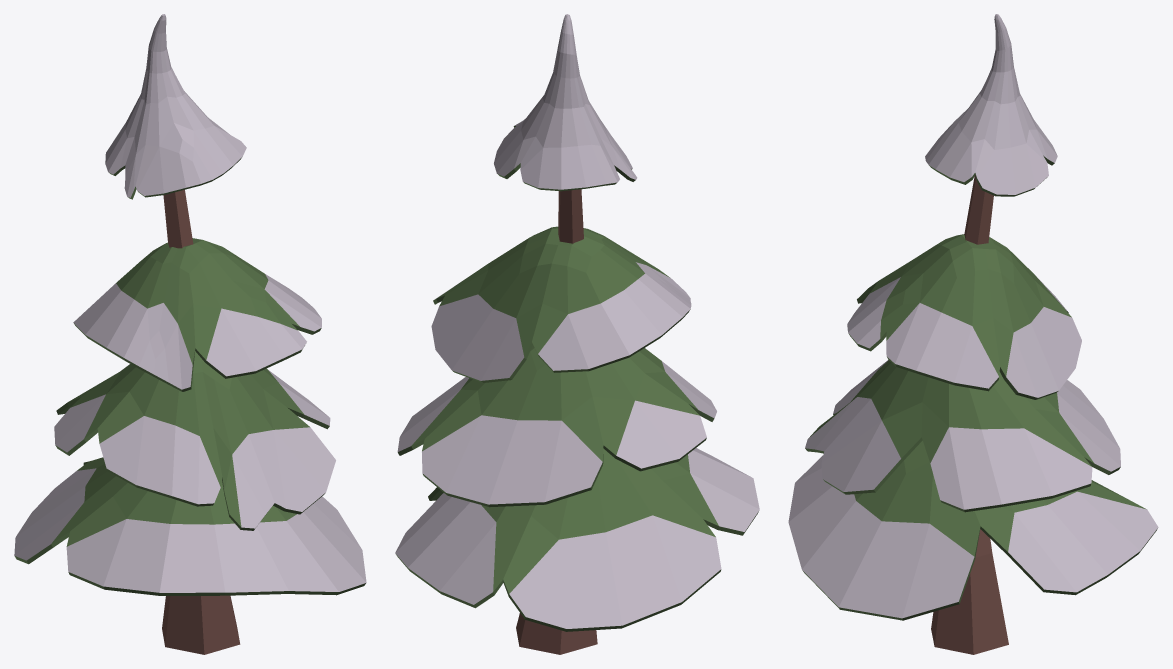
File: PineTree_Snow_2.glb
3 views of the same model, side by side, from view 1: azimuth 30°, elevation 25°; view 2: azimuth 150°, elevation 25°; view 3: azimuth 270°, elevation 25° (orthographic). The views are drawn at different scales.
Parts seen in each view (by area): view 1: PineTree_Snow_2; view 2: PineTree_Snow_2; view 3: PineTree_Snow_2.
Boxes of the visible parts, box(x1,y1,x2,y2) form: PineTree_Snow_2: box(14, 14, 366, 654); PineTree_Snow_2: box(395, 14, 759, 654); PineTree_Snow_2: box(788, 14, 1158, 654).
Size of the model in its own units: 1.8 by 3.56 by 1.96.
